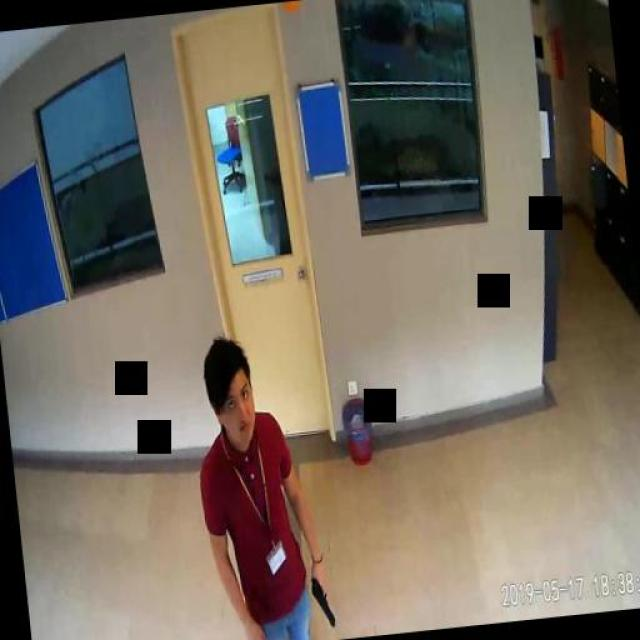gun: (307, 561, 333, 629)
